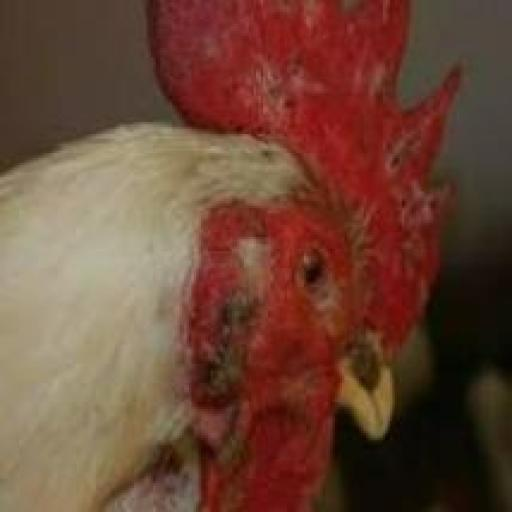disease: (230, 44, 445, 286), (192, 291, 286, 407), (355, 325, 400, 394)
